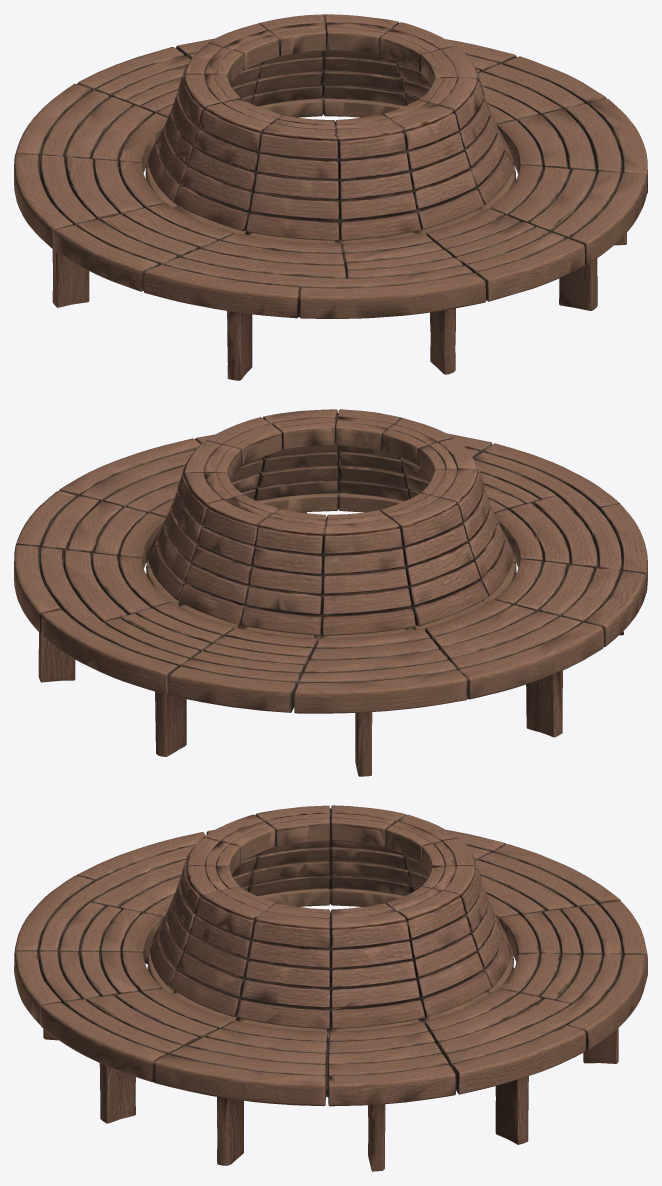
File: seatbowl.glb
The picture shows the model from 3 angles, top to bottom: view 1: azimuth 30°, elevation 25°; view 2: azimuth 150°, elevation 25°; view 3: azimuth 270°, elevation 25°; orthographic projection.
Parts seen in each view (by area): view 1: tripo_node_1c33e409-3047-463b-b077-431a1b02eb39; view 2: tripo_node_1c33e409-3047-463b-b077-431a1b02eb39; view 3: tripo_node_1c33e409-3047-463b-b077-431a1b02eb39.
Boxes of the visible parts, x1,y1,x2,y2 form: tripo_node_1c33e409-3047-463b-b077-431a1b02eb39: [14, 14, 647, 380]; tripo_node_1c33e409-3047-463b-b077-431a1b02eb39: [14, 409, 647, 776]; tripo_node_1c33e409-3047-463b-b077-431a1b02eb39: [14, 805, 647, 1171].
Size of the model in its own units: 2.48 by 0.8 by 2.49.
1 material, 1 textured.
